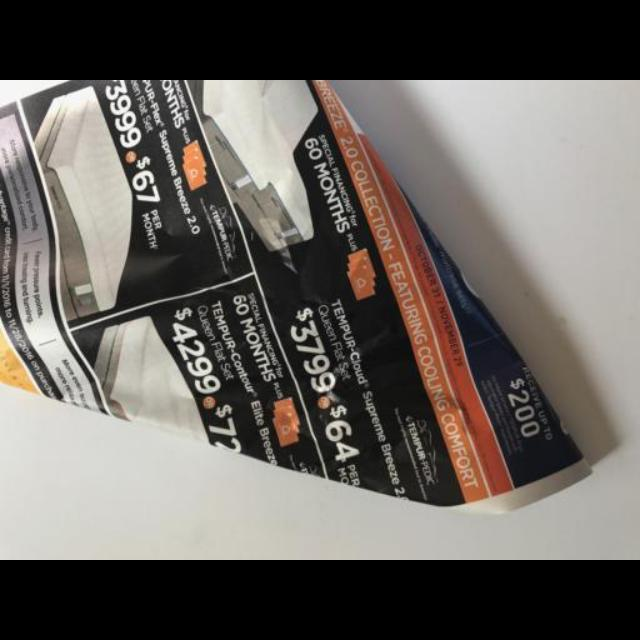papel: (0, 80, 590, 516)
